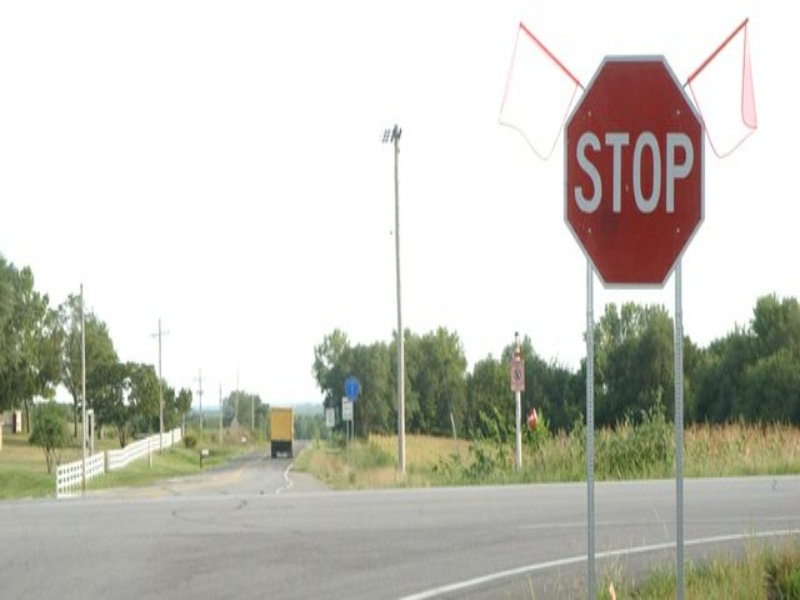stop sign: (561, 49, 711, 292)
